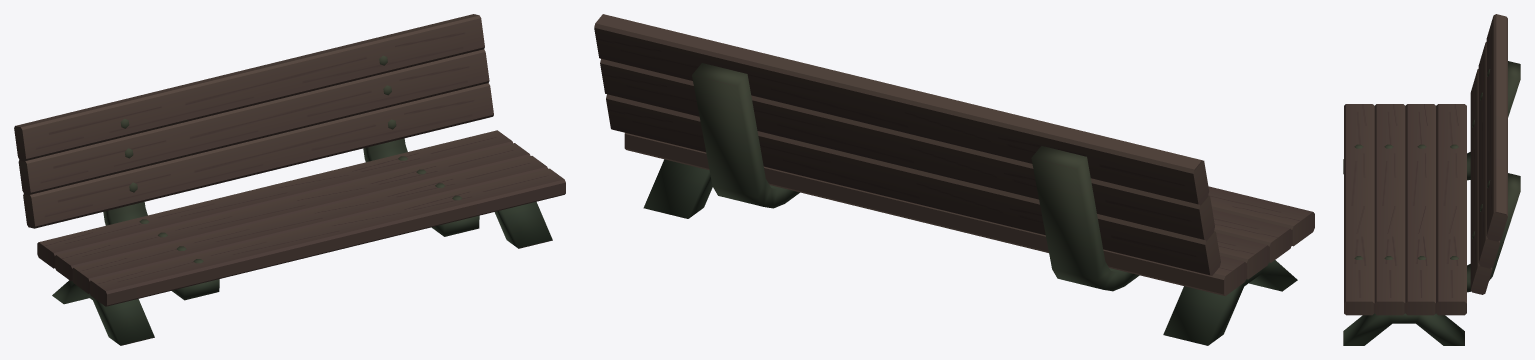
The model's file is Bench.fbx.
3 renders of one model, left to right at view 1: azimuth 30°, elevation 25°; view 2: azimuth 150°, elevation 25°; view 3: azimuth 270°, elevation 25°, orthographic. The views are drawn at different scales.
Visible parts, largest first — view 1: Woodbenchb, Woodbenchd, benchmetal; view 2: Woodbenchb, benchmetal, Woodbenchd; view 3: Woodbenchd, Woodbenchb, benchmetal.
Part boxes in pixels (left/top/right/bottom): Woodbenchb: left=14, top=14, right=493, bottom=228; Woodbenchd: left=37, top=130, right=565, bottom=306; benchmetal: left=52, top=55, right=552, bottom=345; Woodbenchb: left=594, top=14, right=1220, bottom=275; benchmetal: left=643, top=63, right=1297, bottom=345; Woodbenchd: left=624, top=133, right=1314, bottom=296; Woodbenchd: left=1344, top=104, right=1466, bottom=315; Woodbenchb: left=1470, top=14, right=1507, bottom=294; benchmetal: left=1343, top=61, right=1520, bottom=345.
Size of the model in its own units: 4.59 by 1.51 by 1.74.
1 material, 1 textured.
